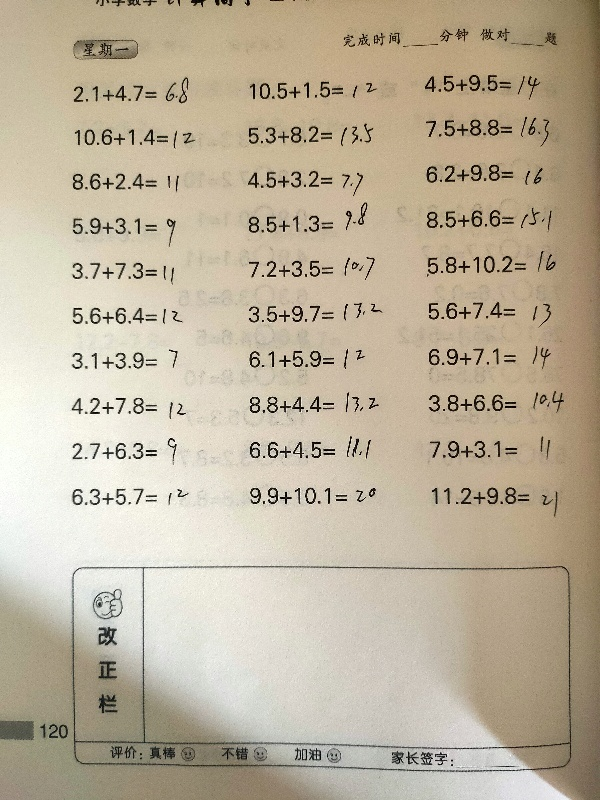equation: (417, 383, 580, 424), (420, 111, 563, 157), (423, 479, 569, 523), (420, 432, 567, 472), (239, 249, 388, 288), (64, 383, 201, 425), (239, 296, 397, 332), (64, 429, 196, 472), (413, 203, 568, 239), (65, 160, 191, 203), (243, 204, 385, 241), (416, 247, 568, 281), (239, 341, 375, 379), (241, 116, 380, 153), (241, 431, 377, 468), (68, 477, 199, 515), (241, 165, 380, 200), (420, 297, 559, 332), (241, 73, 380, 105), (67, 215, 196, 249), (419, 161, 560, 192), (417, 343, 560, 373), (236, 387, 383, 416), (70, 74, 193, 108), (417, 71, 559, 99), (65, 255, 196, 284), (71, 124, 198, 150), (246, 484, 380, 508), (68, 346, 181, 373), (69, 304, 186, 328)
